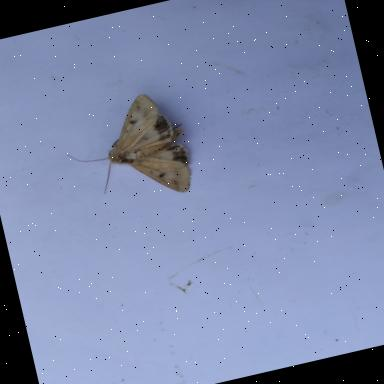abw: (56, 82, 206, 218)
